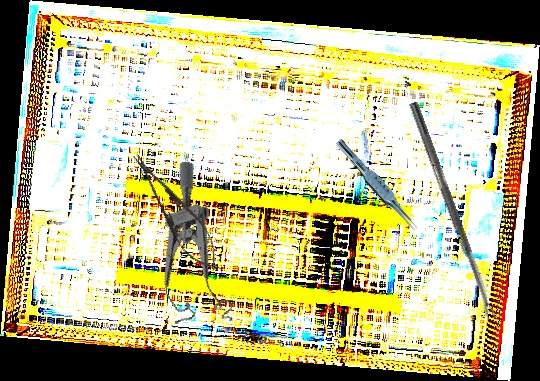Needle Holder: (121, 144, 231, 280)
Speculum: (123, 159, 249, 340)
Surgical Spoon: (407, 101, 497, 321)
Tissue Forceps: (330, 137, 424, 234)
